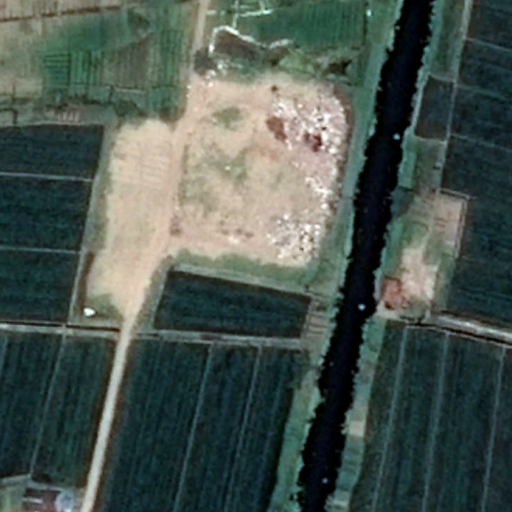msw: (267, 96, 346, 274)
